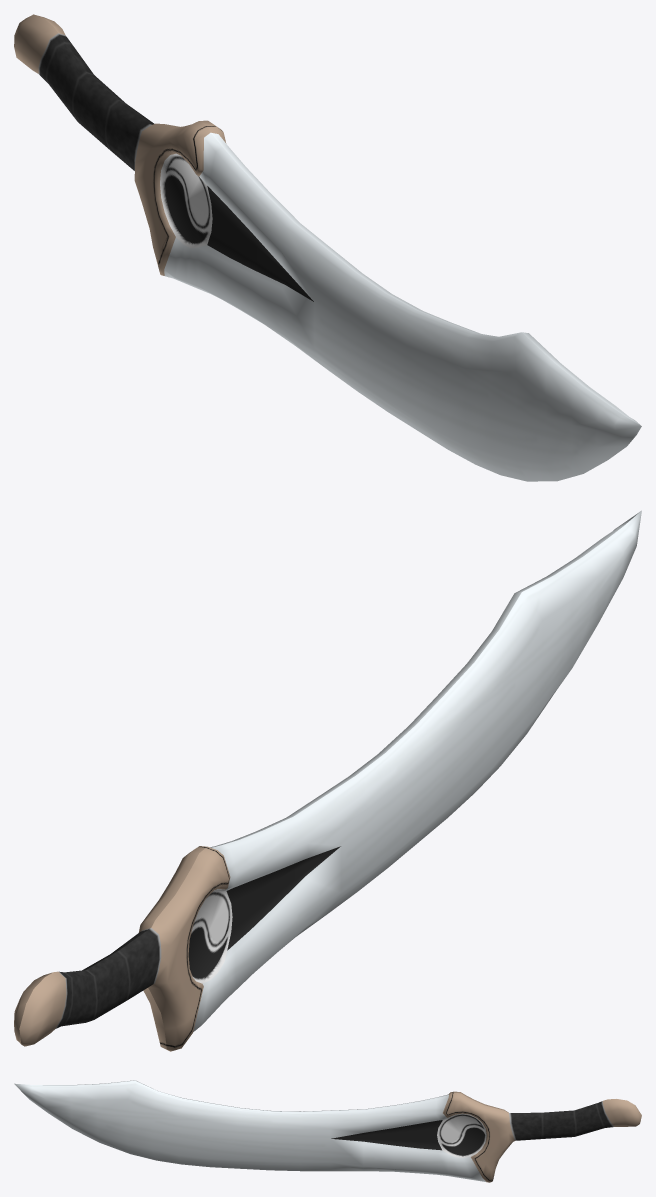
File: Bakuya.fbx
3 views of the same model, one above another, from view 1: azimuth 30°, elevation 25°; view 2: azimuth 150°, elevation 25°; view 3: azimuth 270°, elevation 25° (orthographic). The views are drawn at different scales.
Visible parts, largest first — view 1: Blade; view 2: Blade; view 3: Blade.
Boxes of the visible parts, x1,y1,x2,y2 form: Blade: (14,14,641,481); Blade: (14,510,641,1051); Blade: (14,1080,641,1182).
Size of the model in its own units: 5.56 by 31.88 by 178.
Materials: 3 (3 with a texture image).
